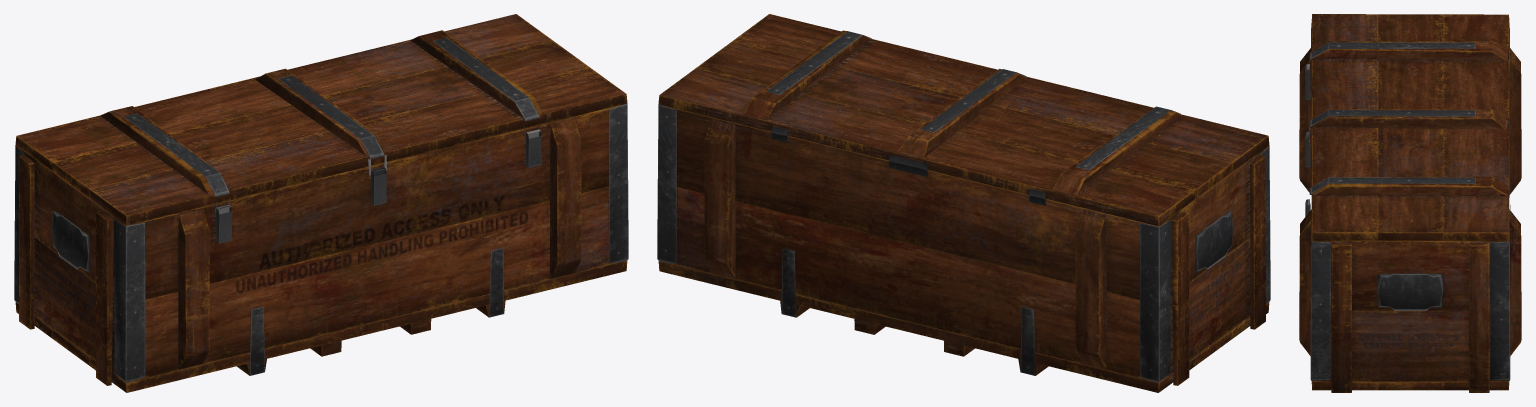
The model's file is real_crate_mil.glb.
The picture shows the model from 3 angles, left to right: view 1: azimuth 30°, elevation 25°; view 2: azimuth 150°, elevation 25°; view 3: azimuth 270°, elevation 25°; orthographic projection. The views are drawn at different scales.
Visible parts, largest first — view 1: real_crate_mil; view 2: real_crate_mil; view 3: real_crate_mil.
Boxes of the visible parts, x1,y1,x2,y2 form: real_crate_mil: (14, 14, 628, 392); real_crate_mil: (657, 14, 1270, 392); real_crate_mil: (1299, 14, 1521, 392).
Size of the model in its own units: 1.24 by 0.4606 by 0.5172.
1 material, 1 textured.
